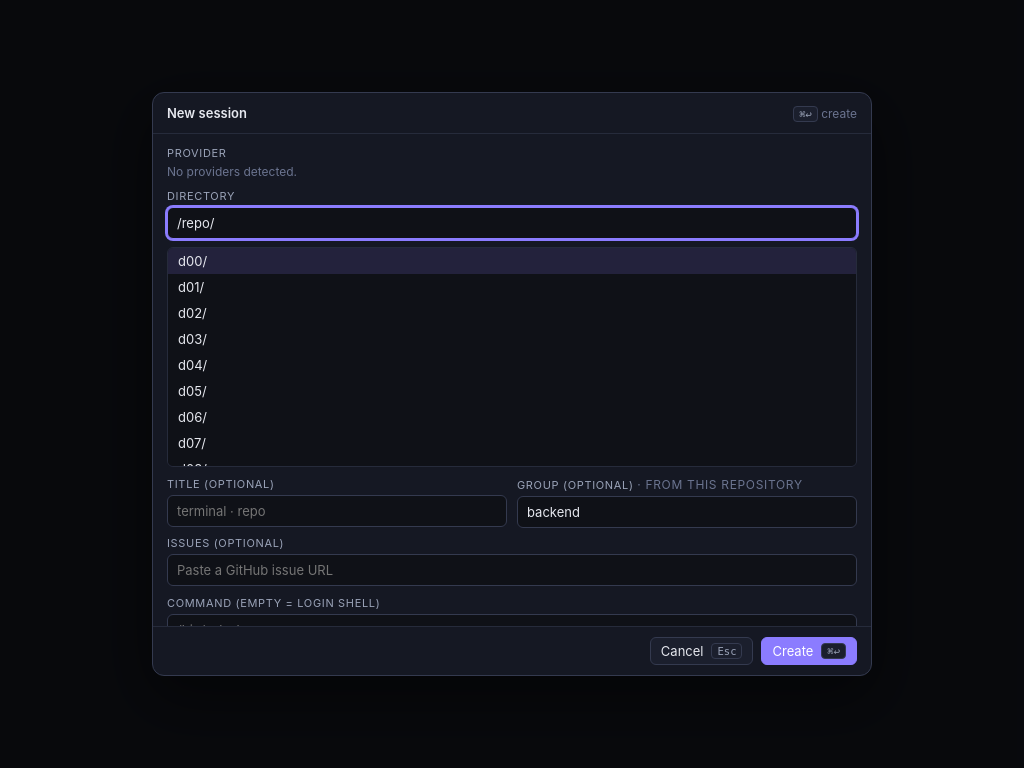
Scenario: fills the group linked to the directory's repository
Check: the field below "Group (optional)" holds "backend", box [517,496,857,528]
Check: the text "· from this repository" is shown, box [637,477,803,492]
Replace the text in the field with placeholder "~/projects/…" below "Directory" with "/elsewhere/" at {"x": 512, "y": 223}, box [167,207,857,239]
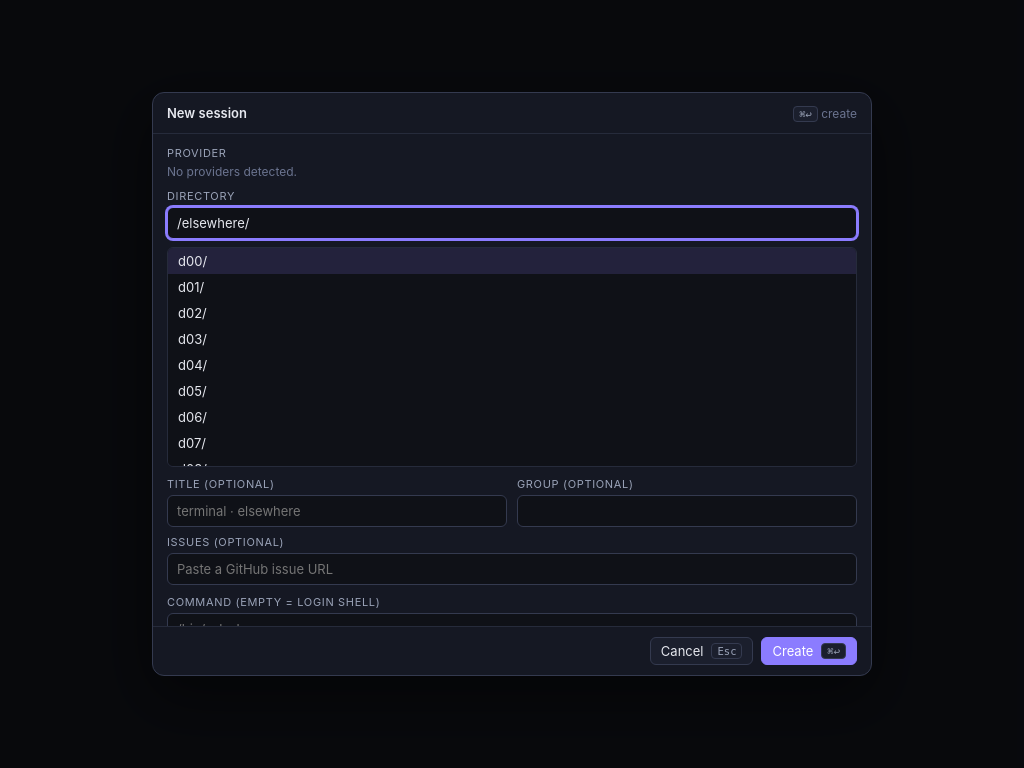
Check: the field below "Group (optional)" is empty, box [517,495,857,527]
Check: the text "· from this repository" is gone
